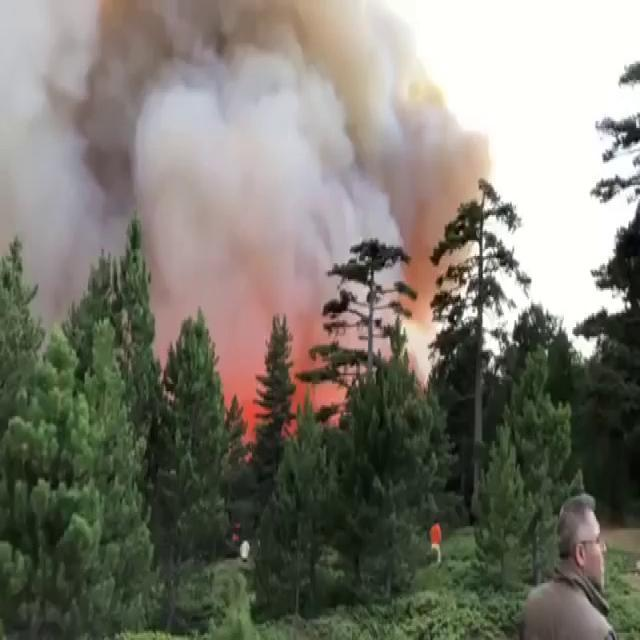Fire: (216, 341, 334, 478), (430, 523, 440, 551)
Smoke: (21, 1, 490, 300)
